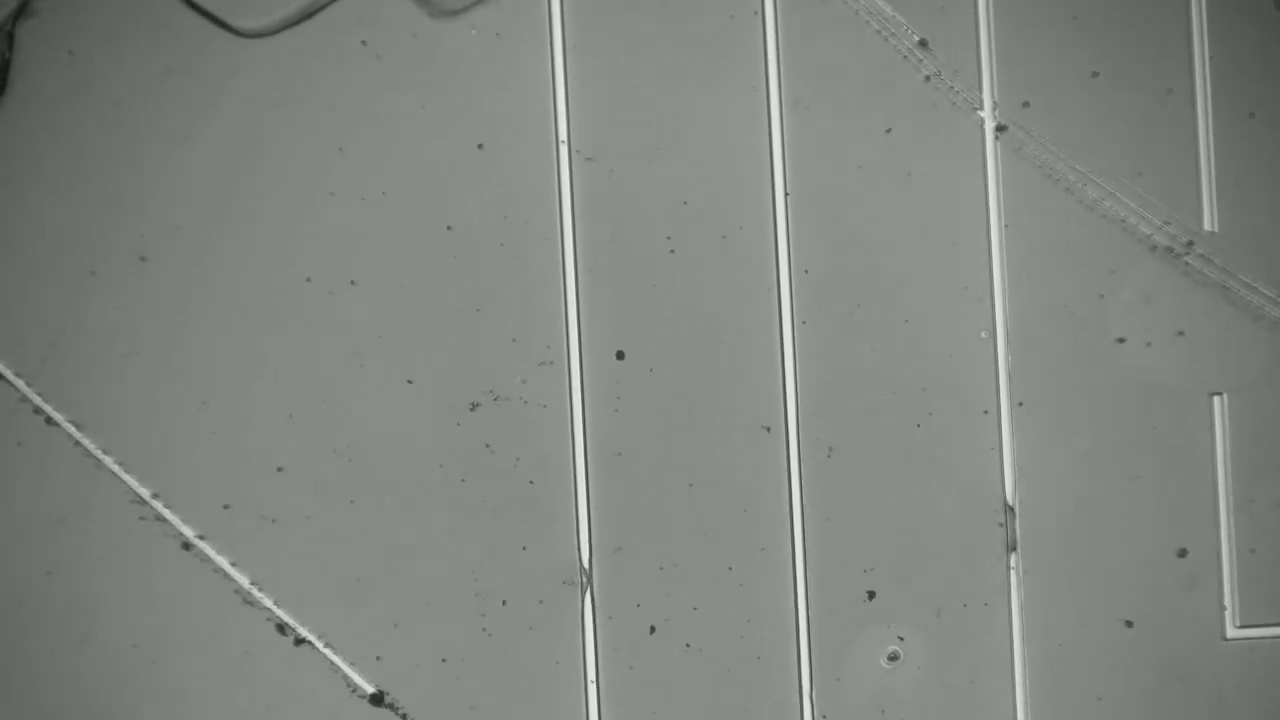gray_line: (992, 480, 1043, 581), (569, 536, 607, 612)
open: (1166, 187, 1264, 445)
scratch: (840, 1, 1280, 357), (1, 358, 421, 710)
